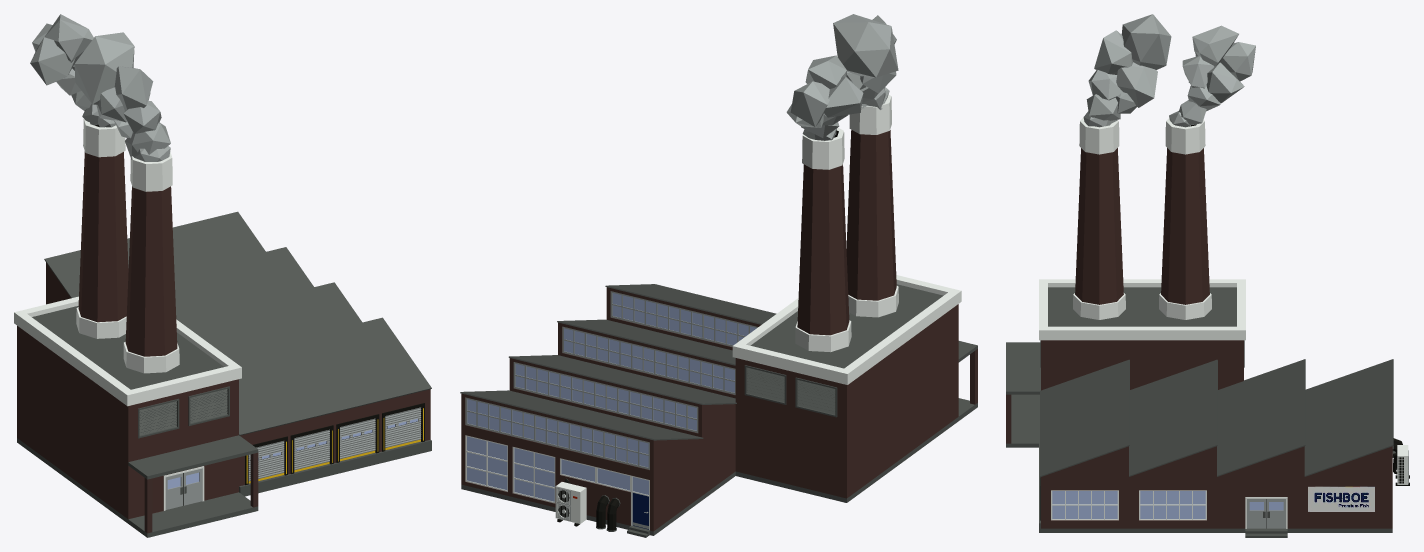
Rendered from factory.glb.
3 views of the same model, side by side, from view 1: azimuth 30°, elevation 25°; view 2: azimuth 150°, elevation 25°; view 3: azimuth 270°, elevation 25° (orthographic). The views are drawn at different scales.
Visible parts, largest first — view 1: Factory_0; view 2: Factory_0; view 3: Factory_0.
Boxes of the visible parts, <box> form: Factory_0: <box>14,14,431,537</box>; Factory_0: <box>460,14,977,537</box>; Factory_0: <box>1006,14,1409,537</box>.
Bounding box in the file's own units: 10.18 × 13.44 × 12.39.
Materials: 1 (1 with a texture image).
